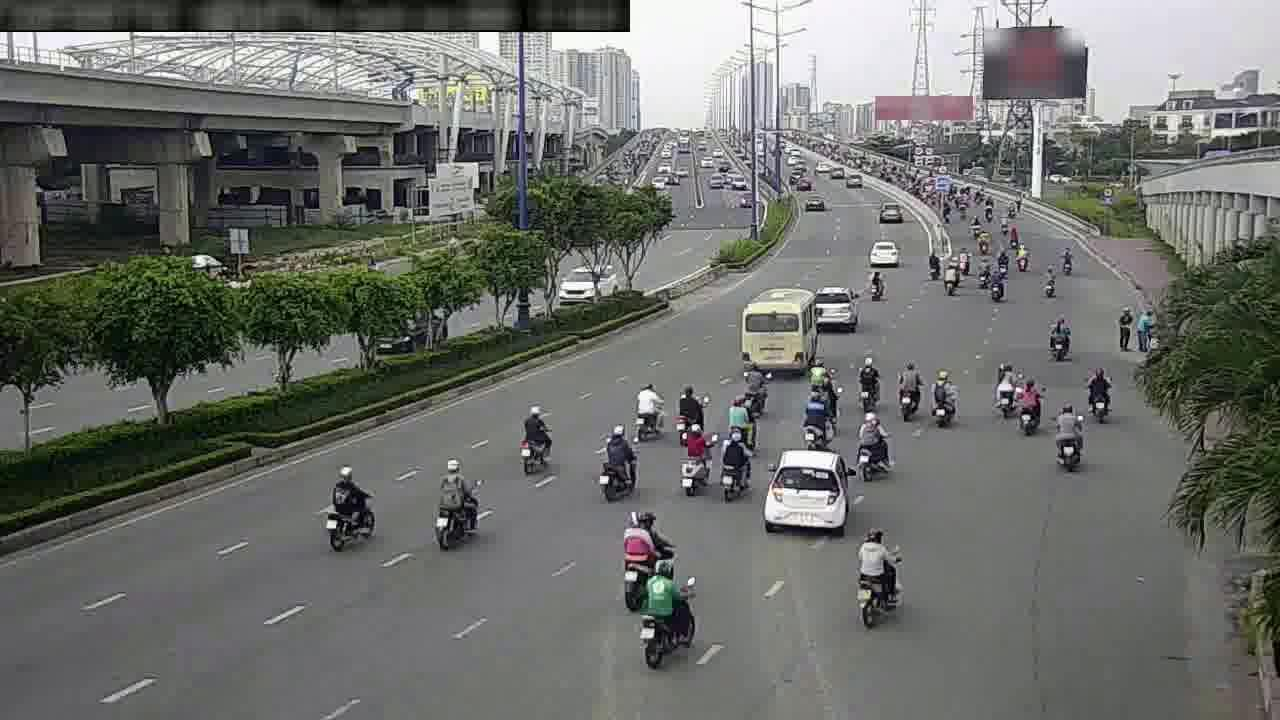car: (761, 435, 853, 537), (807, 282, 857, 330), (865, 239, 899, 265)
motorbike: (635, 550, 697, 663), (849, 520, 905, 626), (426, 457, 485, 552), (320, 461, 381, 551), (613, 503, 662, 586), (592, 422, 640, 502), (711, 423, 755, 504), (512, 399, 556, 475), (672, 417, 713, 496), (851, 408, 892, 480), (1048, 402, 1087, 470), (798, 380, 836, 447), (629, 375, 665, 438), (924, 364, 958, 428), (890, 355, 924, 419), (1010, 374, 1045, 435), (1080, 365, 1116, 423), (669, 377, 704, 436), (726, 387, 759, 444), (739, 360, 770, 414), (852, 349, 882, 404), (1042, 312, 1073, 362), (806, 349, 837, 398), (991, 360, 1017, 413), (939, 256, 961, 297), (1035, 264, 1059, 301), (921, 246, 945, 282), (1054, 240, 1076, 275), (867, 265, 885, 305), (1012, 240, 1033, 273), (989, 269, 1007, 306), (972, 253, 990, 290)
passenger_car: (742, 287, 806, 364)
